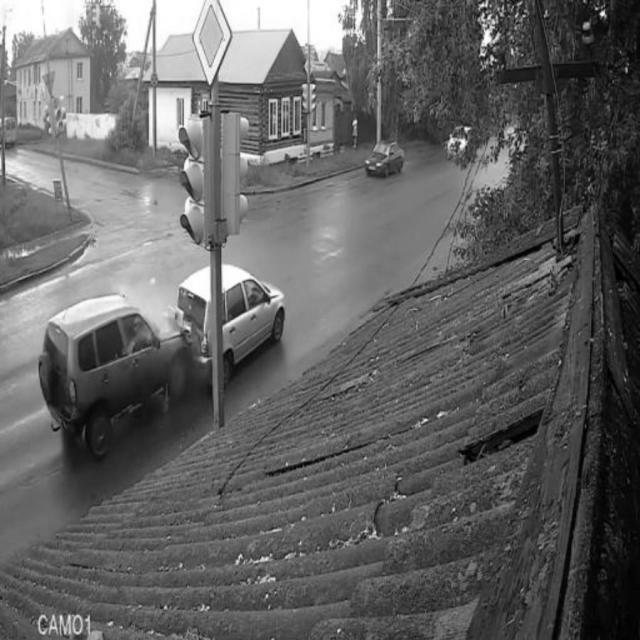accident: (38, 261, 286, 461)
vehicle: (363, 137, 407, 184), (0, 114, 20, 149)
